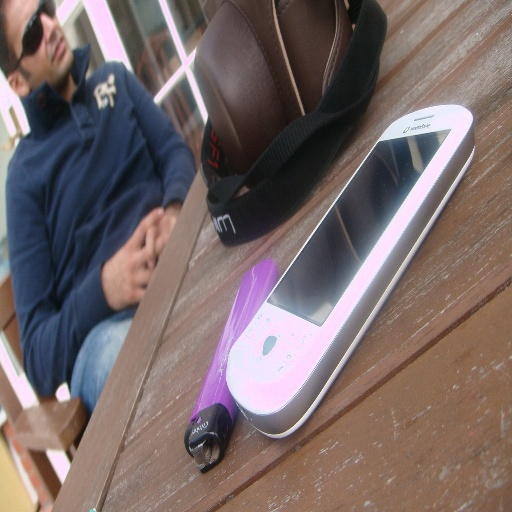hand: (96, 204, 162, 307), (144, 202, 181, 270)
